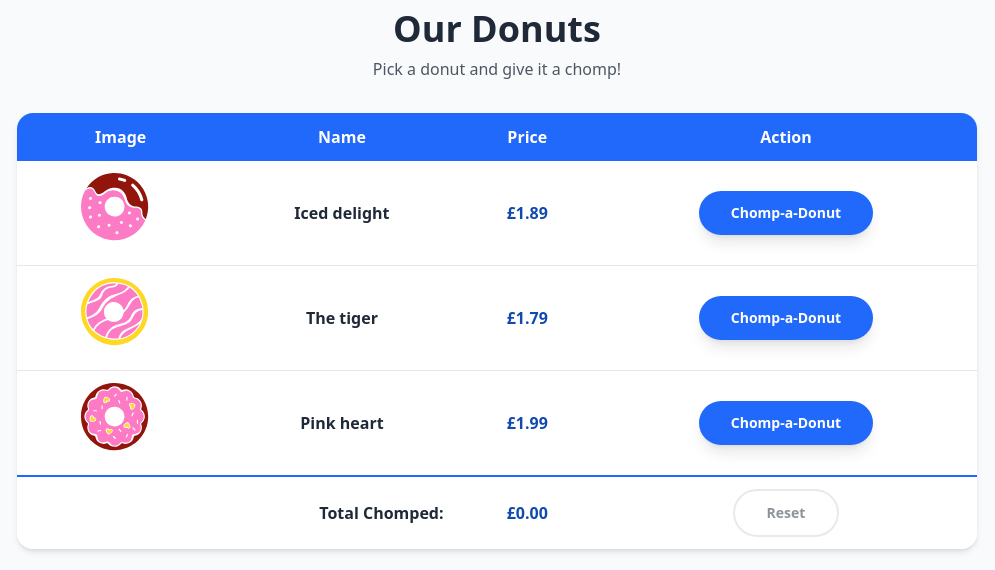
Test: MenuPage › updates total price after chomping
This screenshot has width=995, height=570.
Expected: the text "Pink heart" is shown, [224, 370, 460, 476]
Click the button "Chomp-a-Donut" in the row of "Pink heart".
click(786, 423)  # box [699, 401, 873, 445]
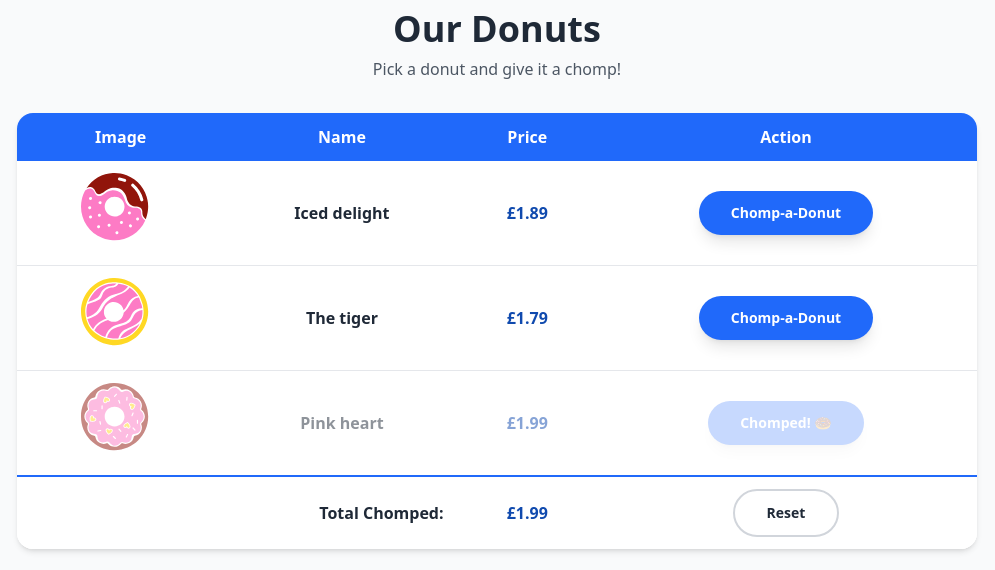
Result: the text "£0.00" is gone
